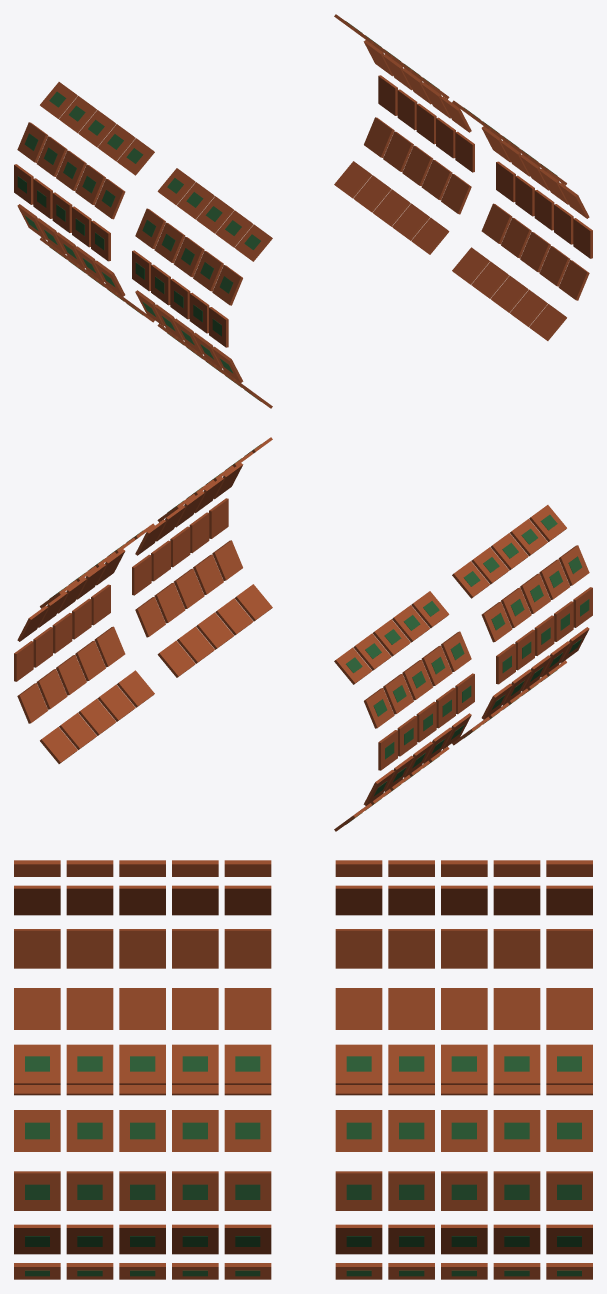
Rendered from pod100_hatches.obj.
3 views of the same model, one above another, from view 1: azimuth 30°, elevation 25°; view 2: azimuth 150°, elevation 25°; view 3: azimuth 270°, elevation 25° (orthographic). The views are drawn at different scales.
Visible parts, largest first — view 1: pod100_hatches; view 2: pod100_hatches; view 3: pod100_hatches.
Boxes of the visible parts, x1=… form: pod100_hatches: x1=14, y1=14, x2=592, y2=408; pod100_hatches: x1=14, y1=437, x2=592, y2=831; pod100_hatches: x1=14, y1=860, x2=592, y2=1279.
Bounding box in the file's own units: 6.93 × 3.1 × 6.93.
